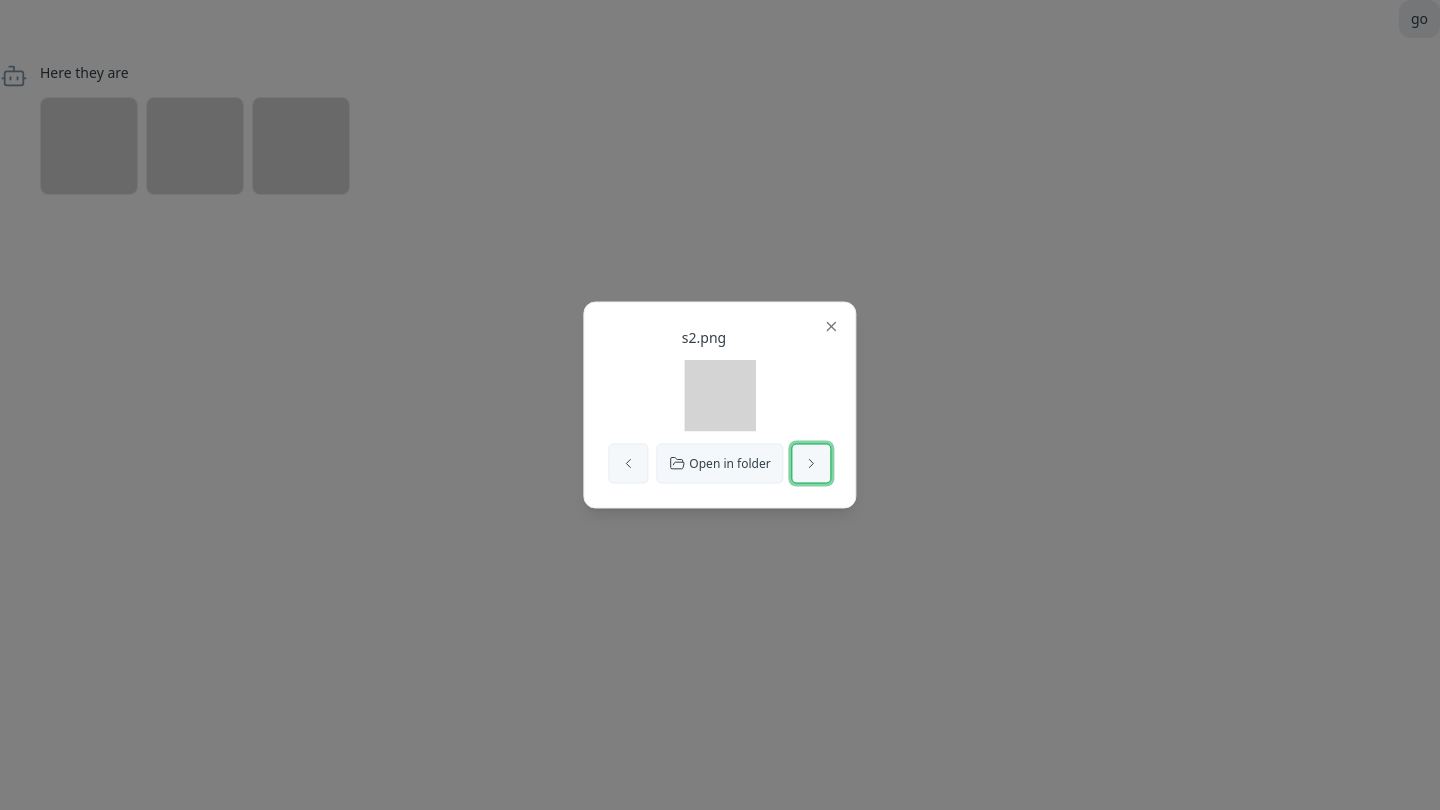
Test: the image strip › opens a lightbox that steps through the message and closes back to the thumbnail
Earlier steps of the test are not shown.
Expected: the dialog "s2.png" is shown, left=583, top=302, right=857, bottom=508
Press Arrowright
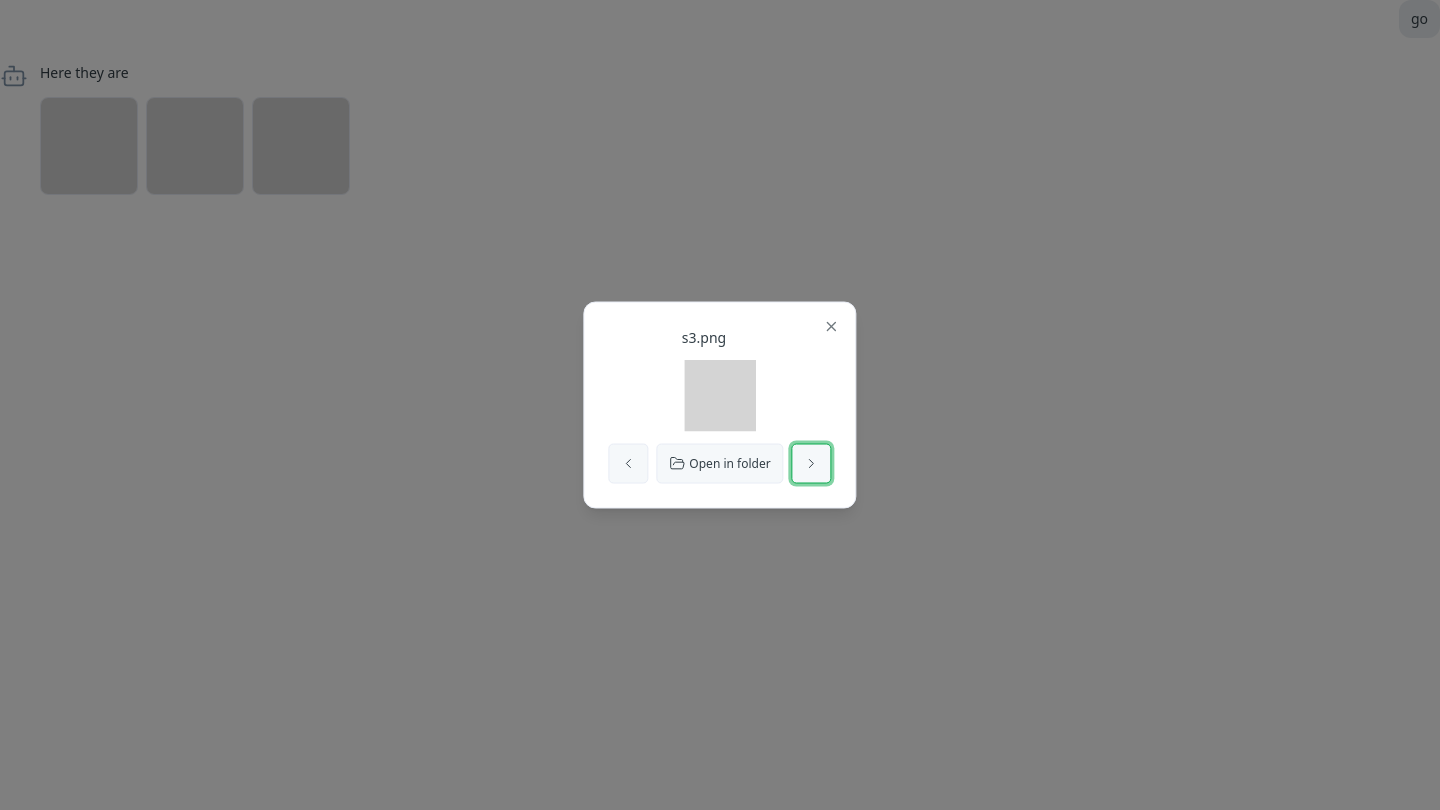
Expected: the dialog "s3.png" is shown, left=583, top=302, right=857, bottom=508
Press Arrowright
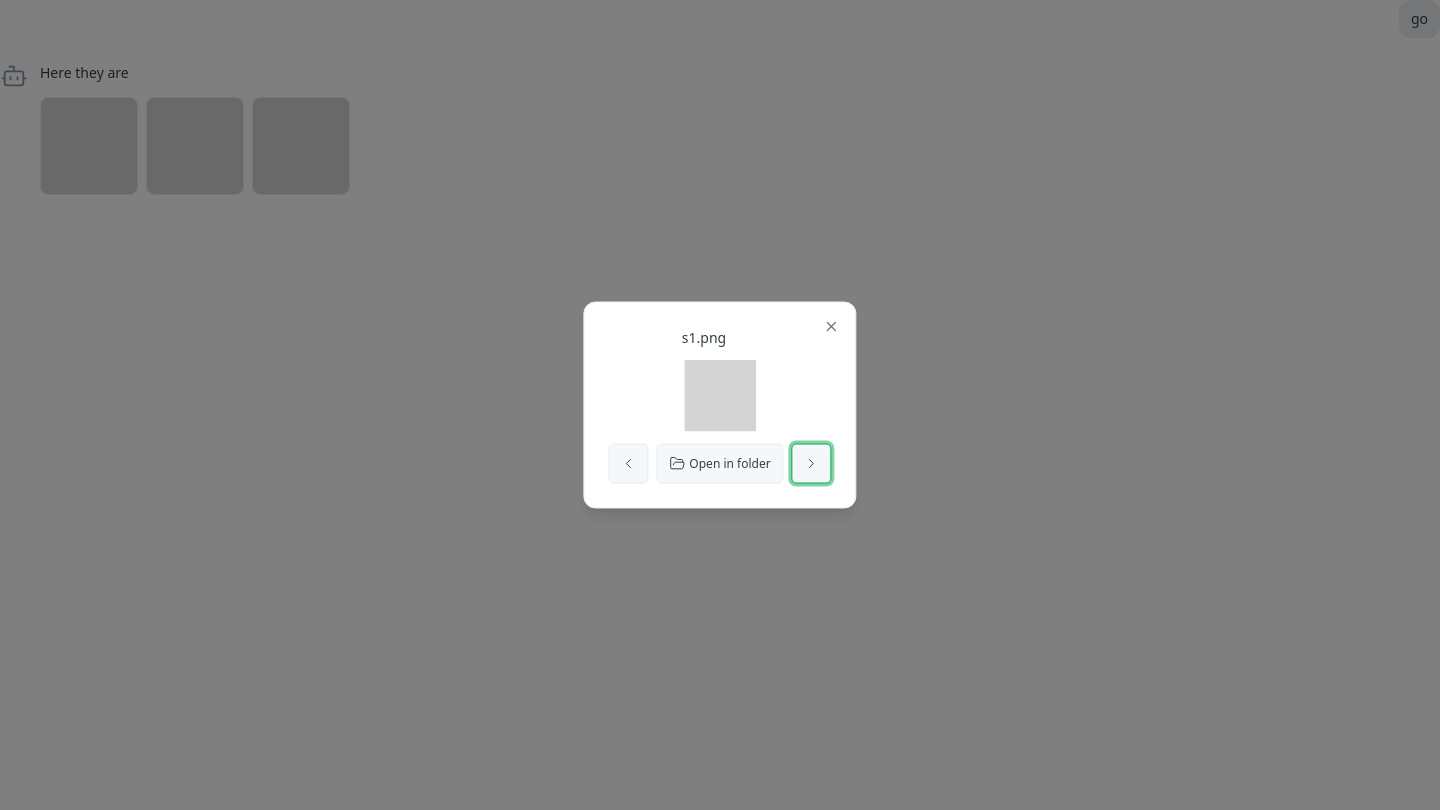
Expected: the dialog "s1.png" is shown, left=583, top=302, right=857, bottom=508
Press Arrowleft
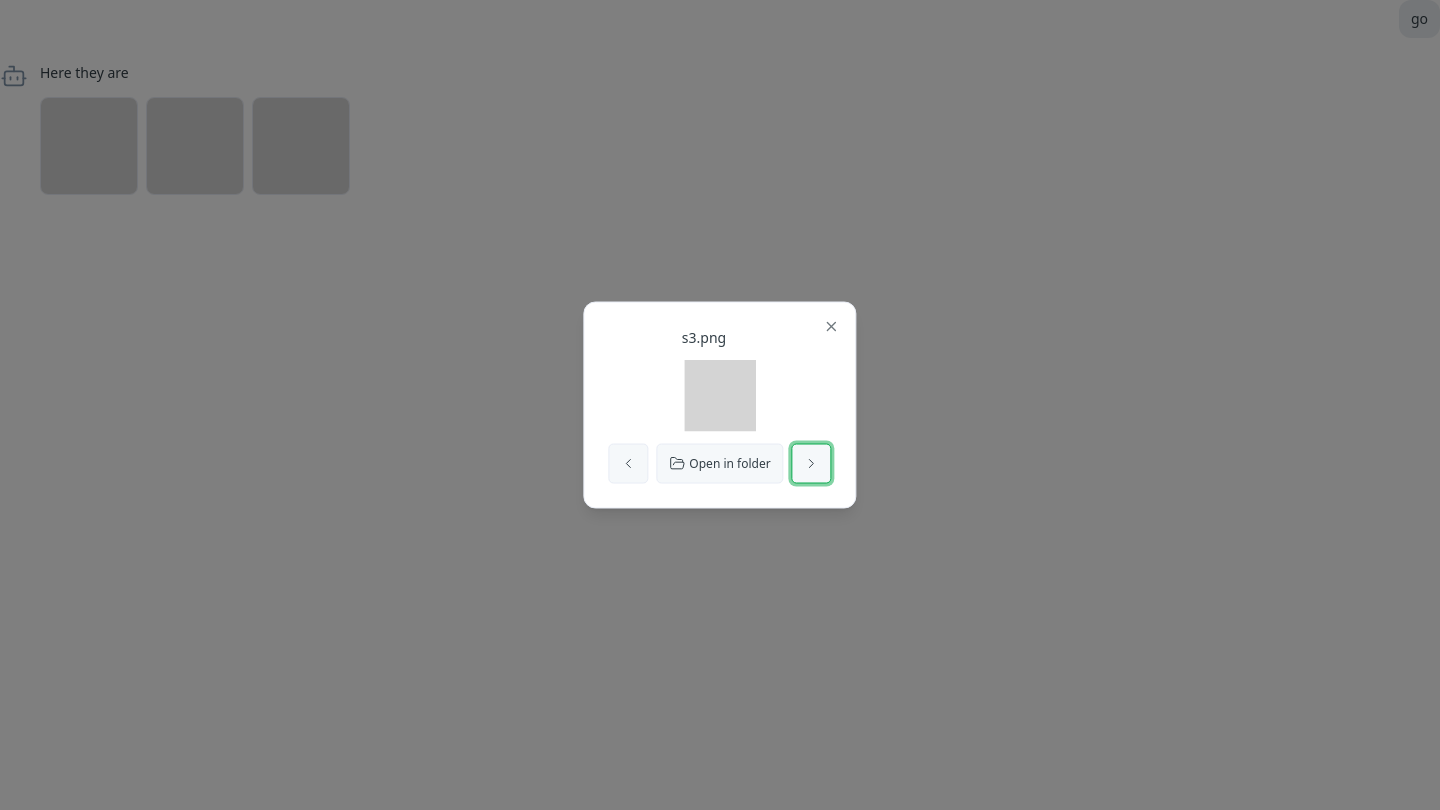
Expected: the dialog "s3.png" is shown, left=583, top=302, right=857, bottom=508
Click the button named "Previous image".
click(628, 464)  # box left=608, top=444, right=648, bottom=484
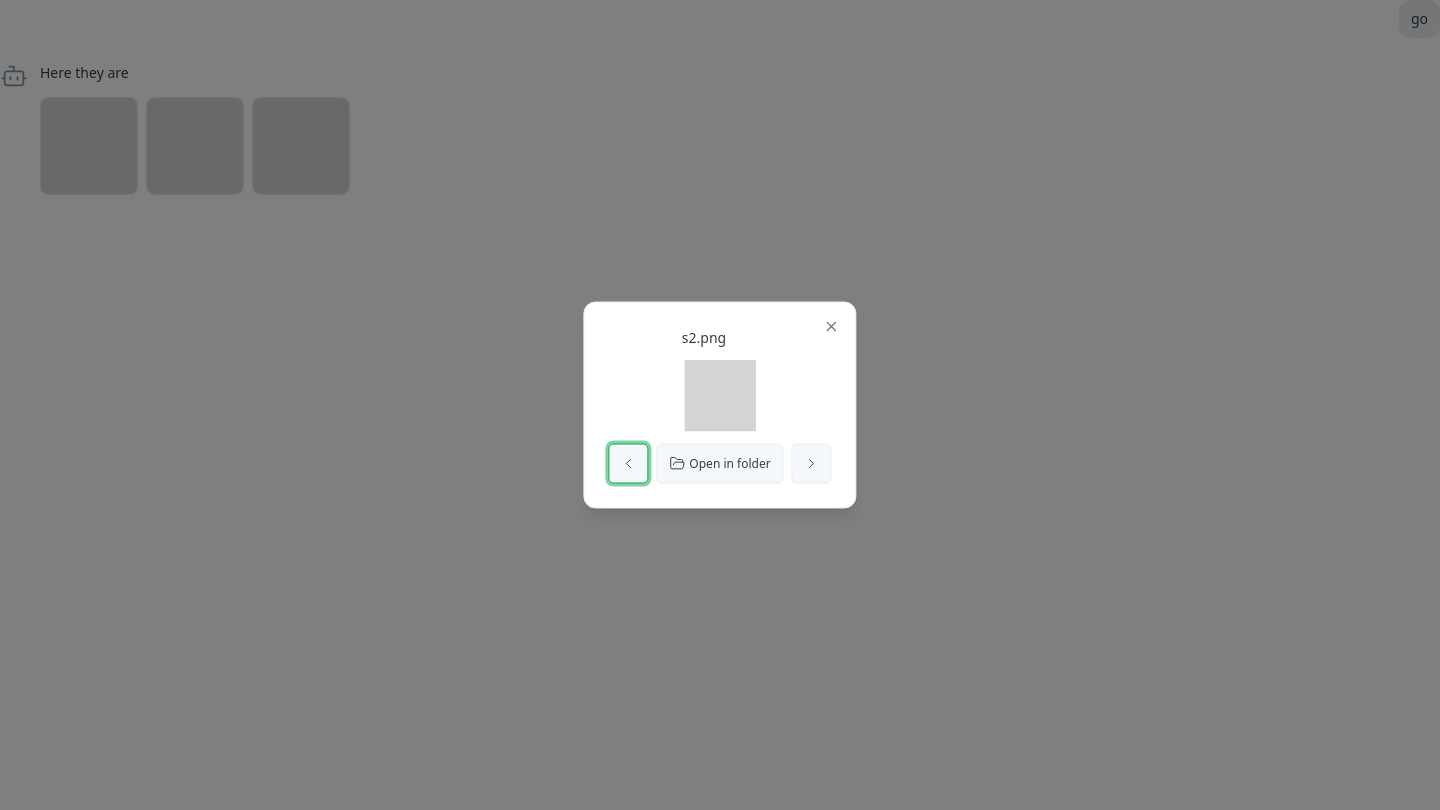
Expected: the dialog "s2.png" is shown, left=583, top=302, right=857, bottom=508
Click the button "Open in folder".
click(720, 464)  # box left=656, top=444, right=784, bottom=484
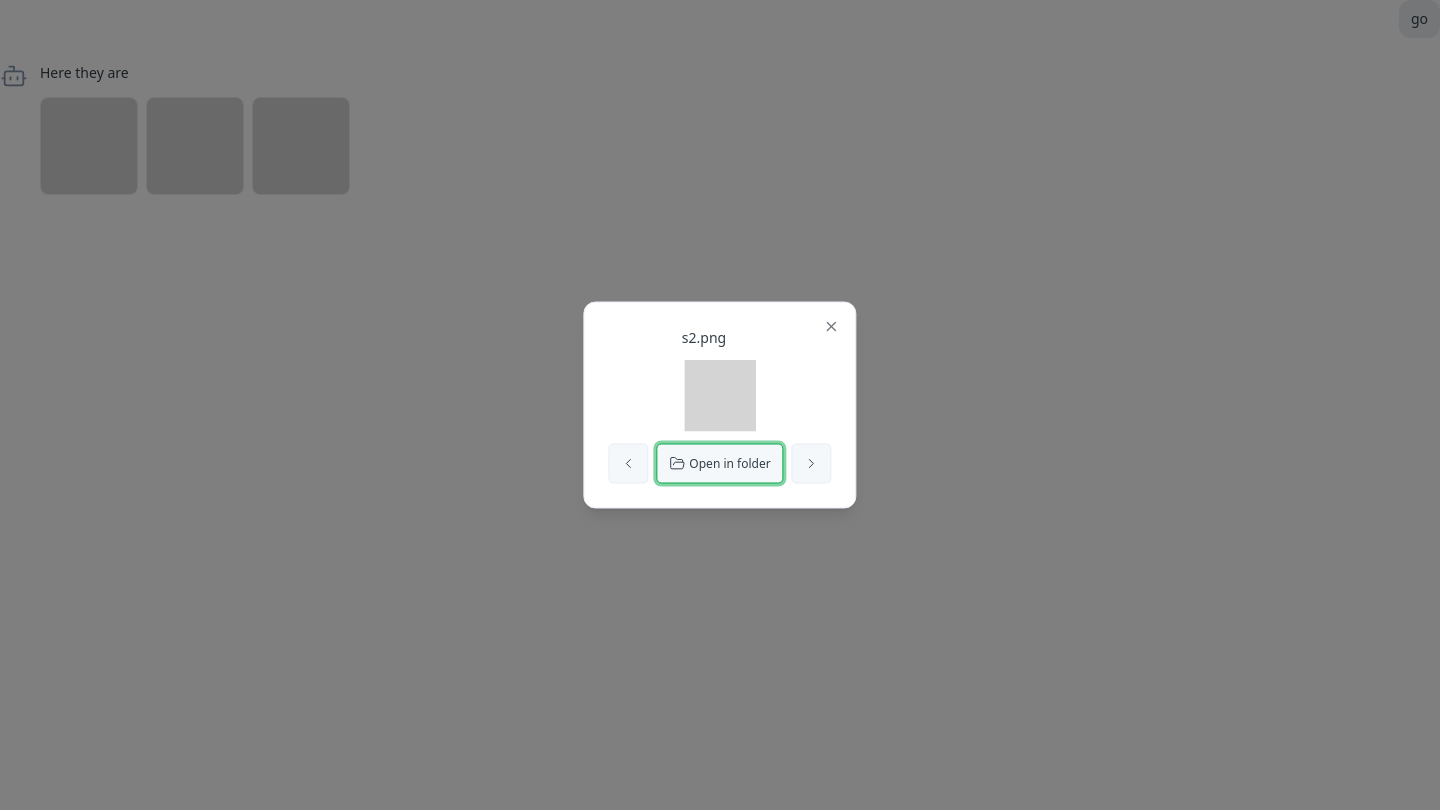
Press Escape
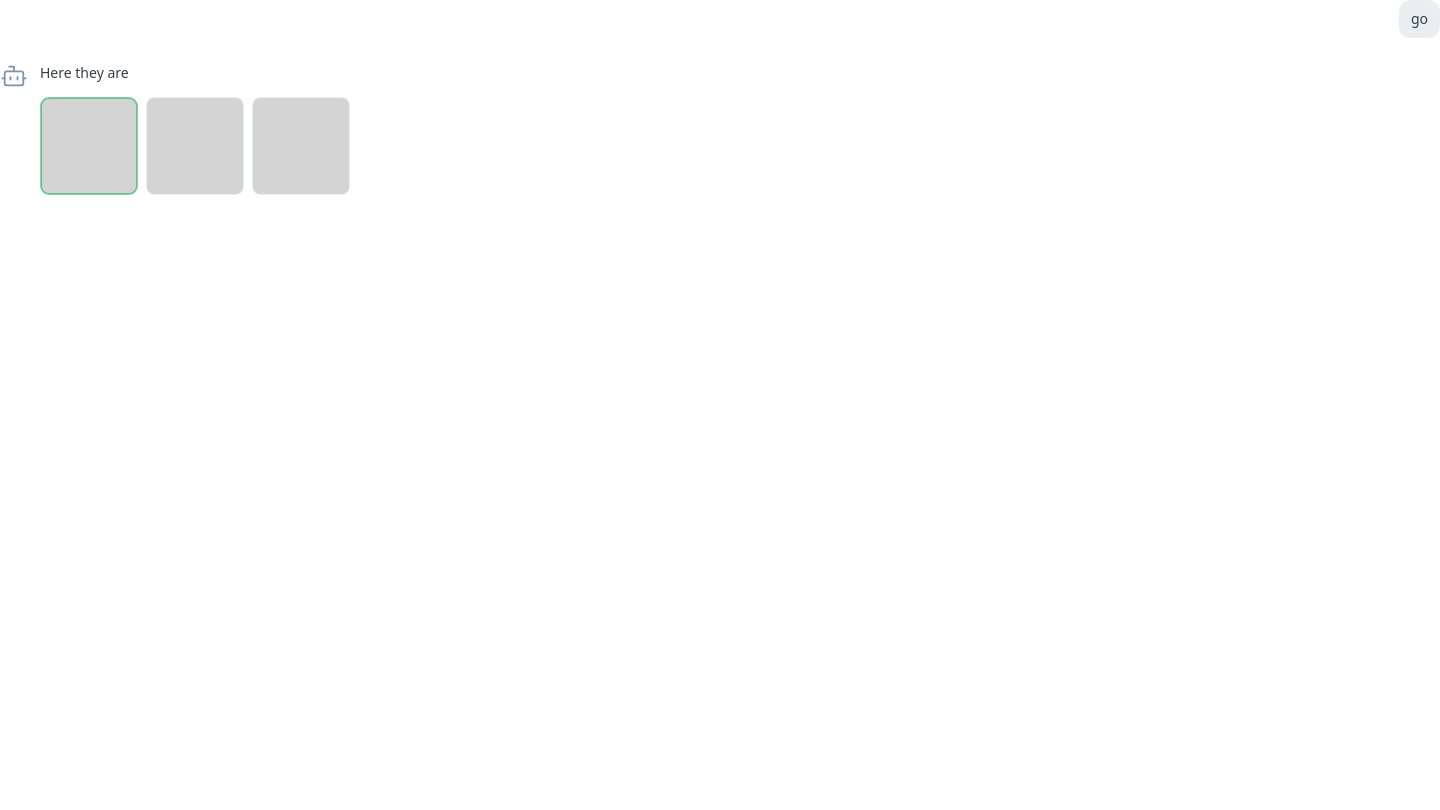
Expected: the dialog is gone
